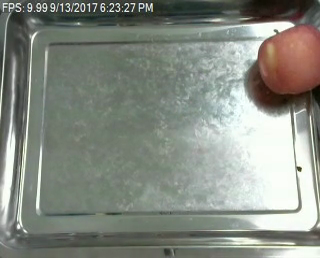Apple: (257, 23, 320, 96)
